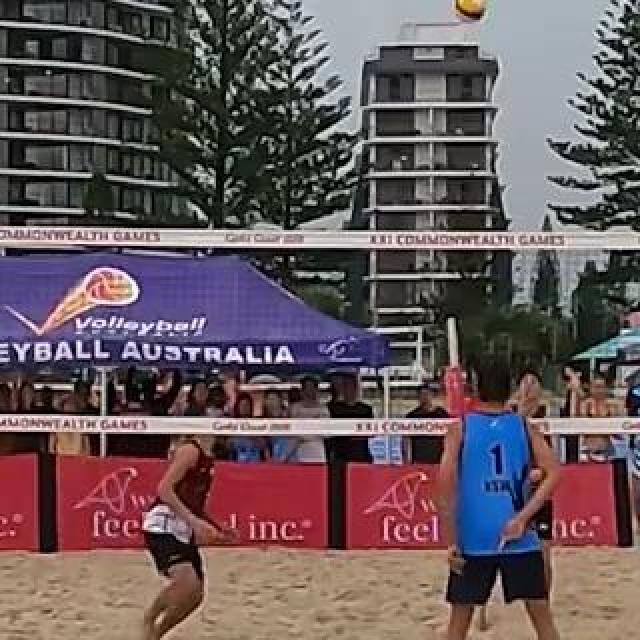volleyball: (454, 0, 484, 22)
